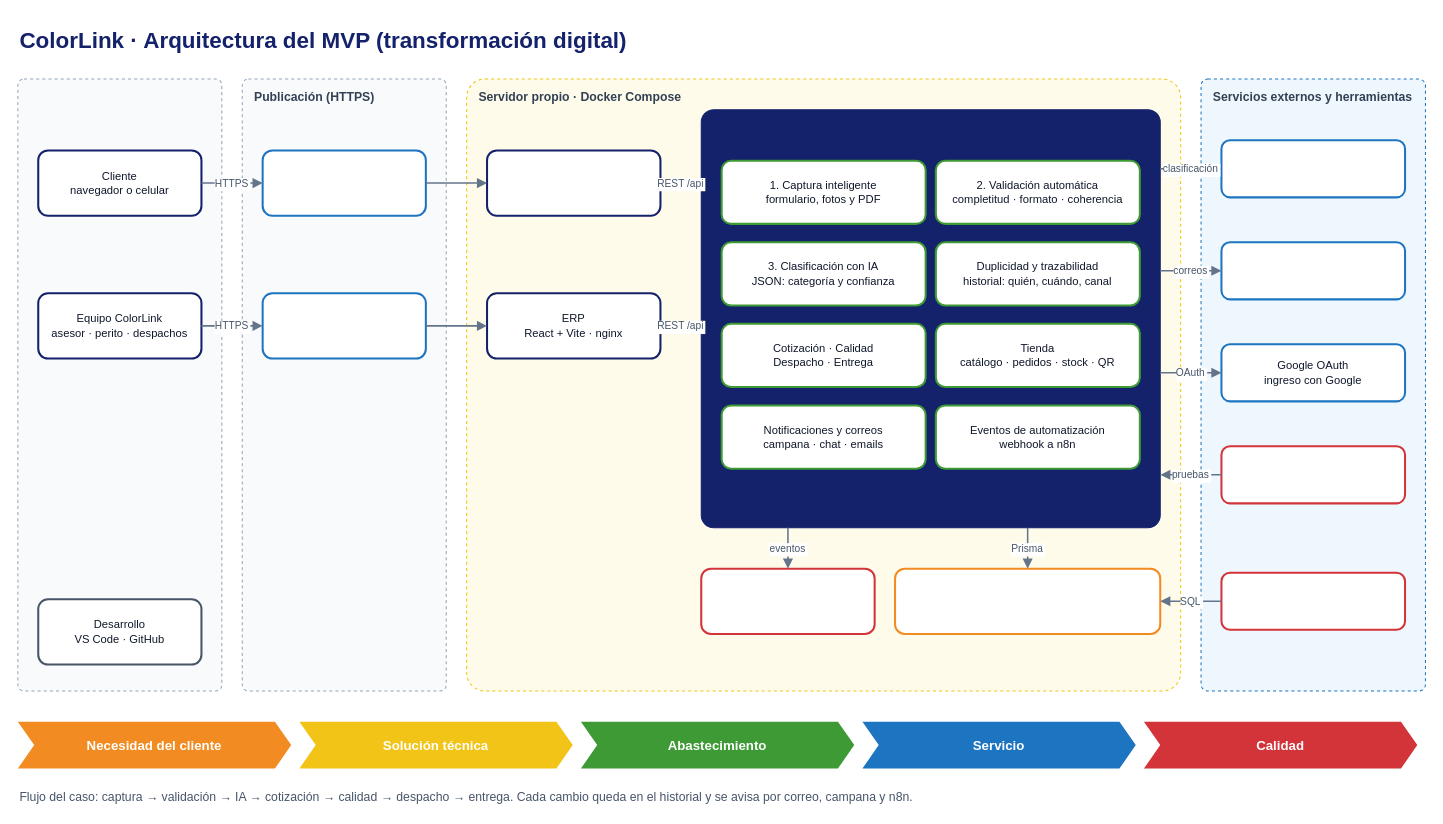
Image size: 1443x824. Some labels were removed from this diagram. Here are the shapes that lost their labels. From the top down, the box of each, then its label:
(261, 149, 426, 216): colorlink-web.ts.net tienda · Tailscale Funnel
(486, 149, 661, 216): Tienda web React + Vite + Tailwind
(1220, 139, 1406, 198): Google AI Studio Gemini API
(1220, 241, 1406, 300): Gmail SMTP colorlinkpin@gmail.com
(261, 292, 426, 359): colorlink-erp.ts.net ERP · Tailscale Funnel
(700, 109, 1160, 528): Backend API · Node.js + Express + Prisma
(17, 78, 222, 691): Usuarios
(1220, 445, 1406, 504): Bruno pruebas de la API
(700, 567, 875, 634): n8n · automatización evento → aviso por correo
(894, 567, 1161, 634): PostgreSQL 16 tablas + vistas vw_* para el dashboard
(1220, 571, 1406, 630): Metabase · dashboard lee las vistas vw_*
